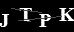J: (1, 12, 9, 28)
K: (58, 7, 74, 22)
P: (38, 13, 52, 27)
T: (18, 7, 32, 22)
